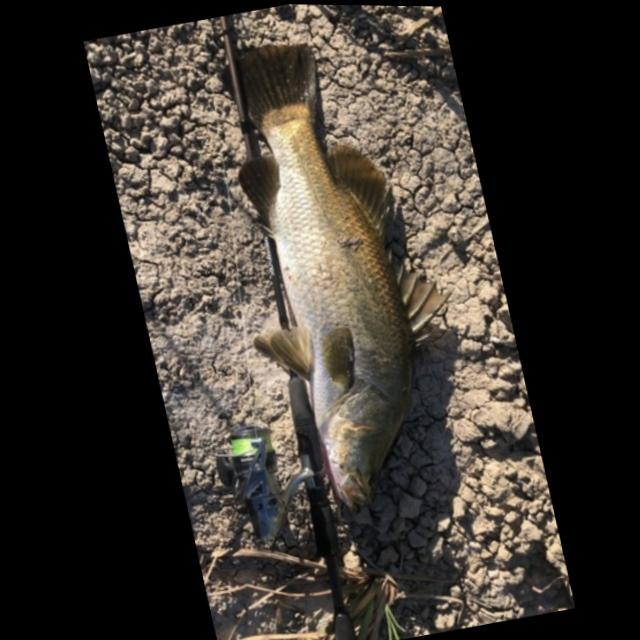Seabass: (189, 21, 495, 524)
